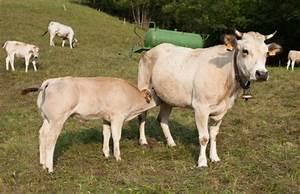cow: (137, 28, 282, 168), (20, 75, 160, 173), (1, 40, 39, 72), (41, 20, 78, 48), (286, 49, 299, 71)
